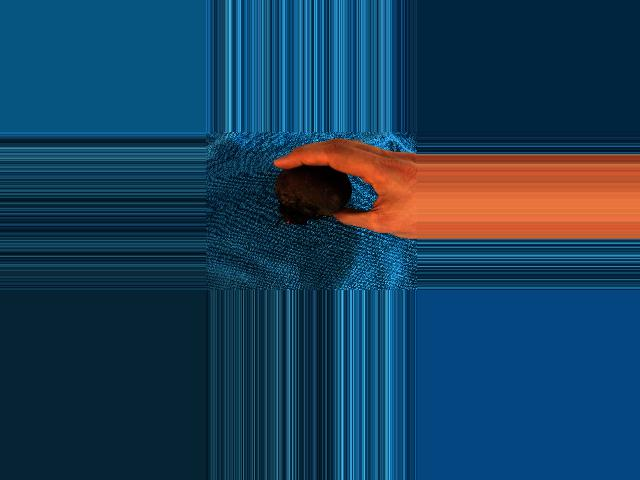beet: (274, 166, 350, 226)
